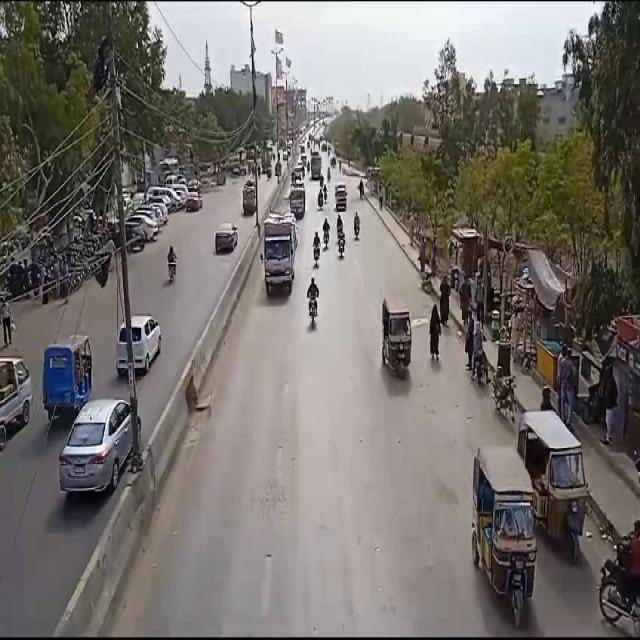car: (57, 398, 135, 492), (115, 316, 164, 375), (124, 212, 161, 246), (144, 187, 184, 213), (216, 222, 239, 254), (290, 189, 306, 218), (184, 195, 204, 212), (336, 184, 347, 211)
motorbike: (306, 272, 320, 326)
truck: (262, 206, 297, 300)
